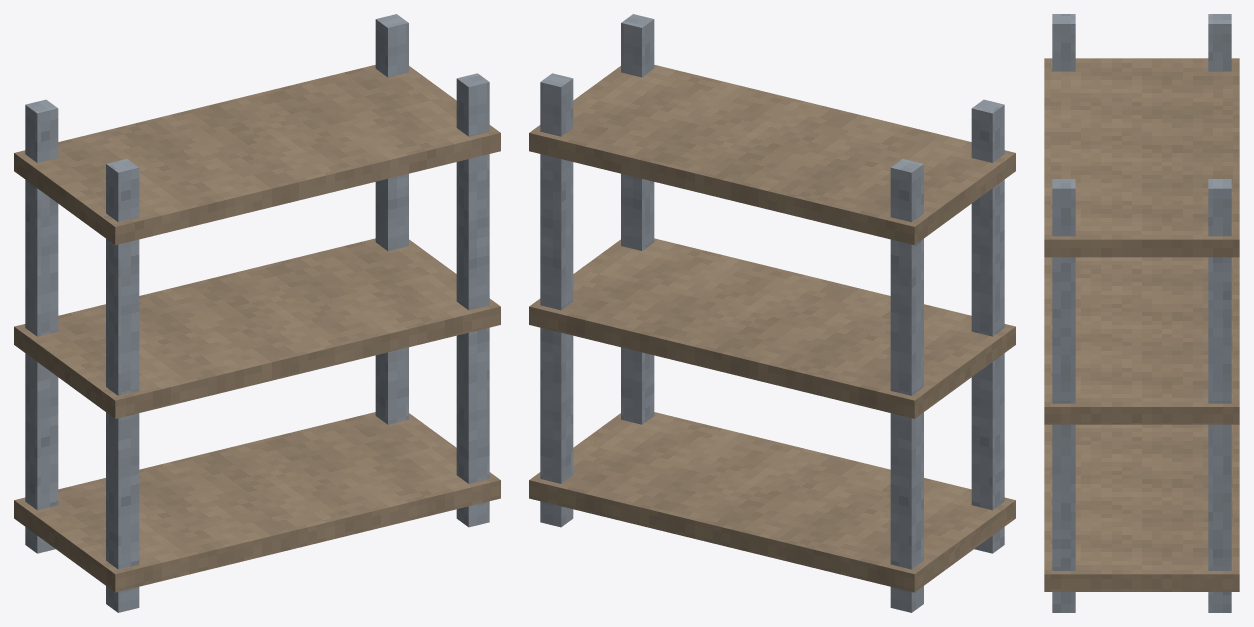
Rendered from level_blockout_storage_shelf.glb.
3 renders of one model, left to right at view 1: azimuth 30°, elevation 25°; view 2: azimuth 150°, elevation 25°; view 3: azimuth 270°, elevation 25°, orthographic. The views are drawn at different scales.
Visible parts, largest first — view 1: level_blockout_storage_shelf; view 2: level_blockout_storage_shelf; view 3: level_blockout_storage_shelf.
Part boxes in pixels (x1,y1,x2,y2): level_blockout_storage_shelf: [14, 14, 500, 612]; level_blockout_storage_shelf: [529, 14, 1015, 612]; level_blockout_storage_shelf: [1044, 14, 1239, 612].
Bounding box in the file's own units: 1.65 × 1.8 × 0.75.
2 materials, 2 textured.
